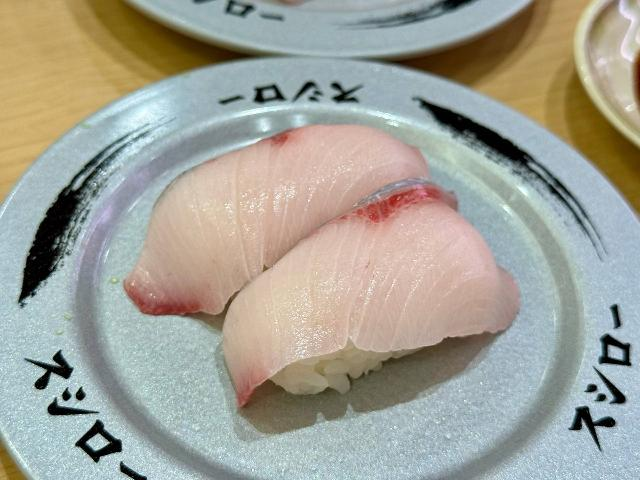janwhite: (103, 385, 640, 480), (522, 127, 640, 480), (118, 0, 558, 68), (0, 198, 105, 480), (30, 54, 543, 110)
